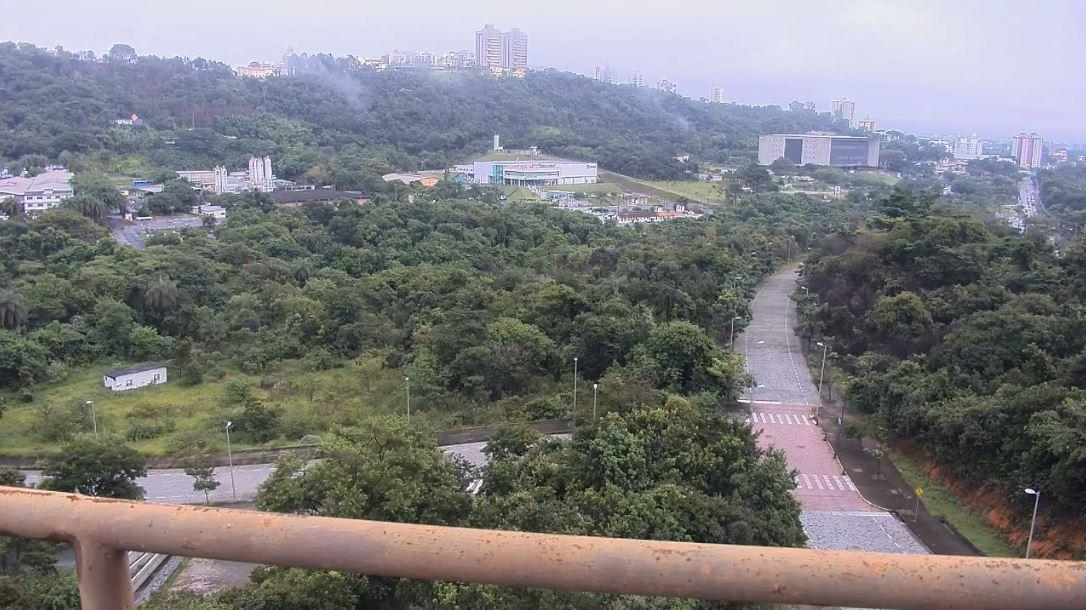smoke: (320, 65, 368, 102)
